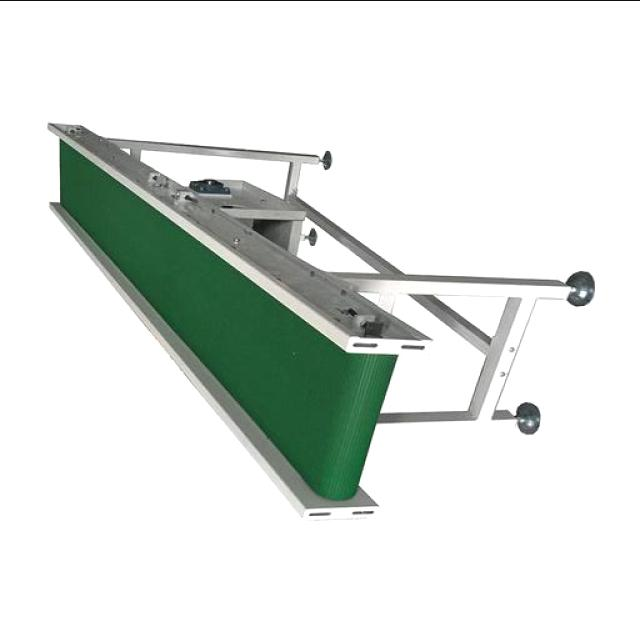conveyor: (51, 128, 420, 517)
